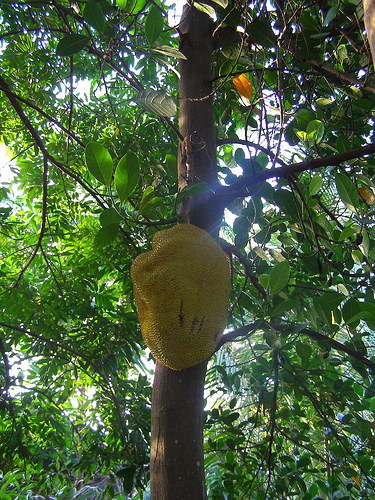jackfruit: (130, 220, 230, 372)
